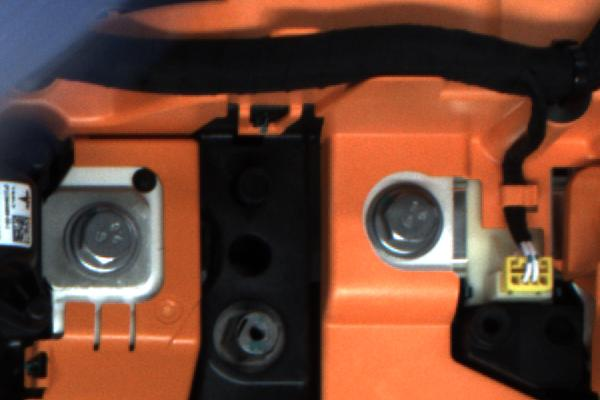nut_b: (350, 175, 452, 273), (62, 198, 145, 282)
